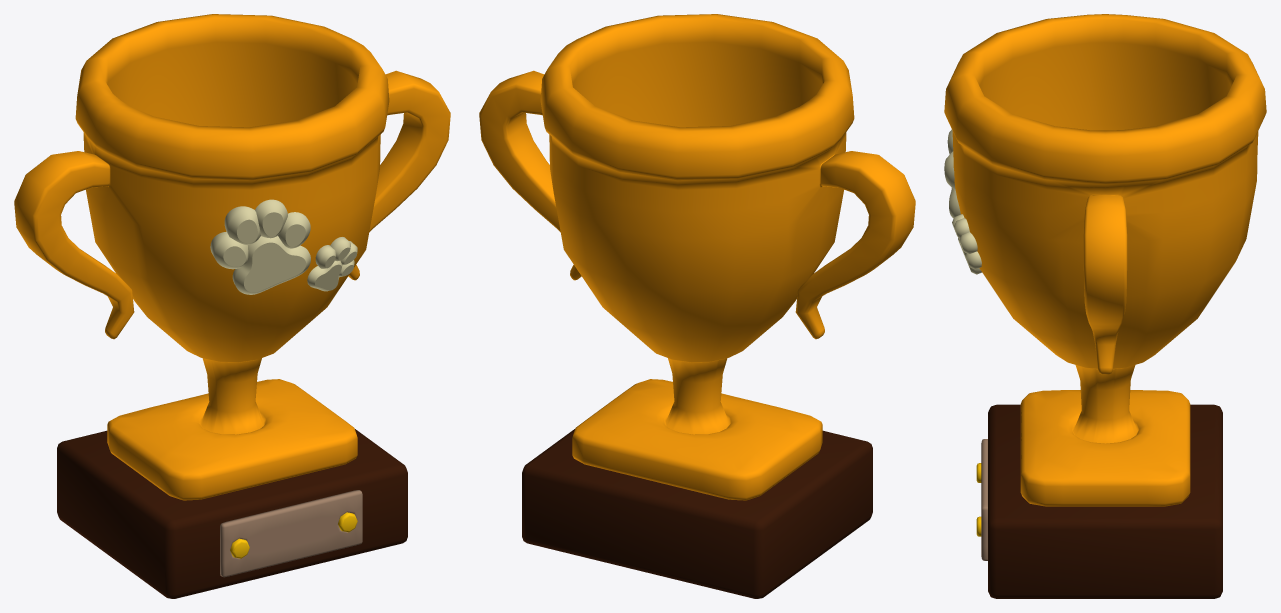
Rendered from REWARD ICON.fbx.
The picture shows the model from 3 angles, left to right: view 1: azimuth 30°, elevation 25°; view 2: azimuth 150°, elevation 25°; view 3: azimuth 270°, elevation 25°; orthographic projection.
Parts seen in each view (by area): view 1: TROPHY, BOTTOM, NAME TAGE, Curve, Curve.001, BUTTON; view 2: TROPHY, BOTTOM; view 3: TROPHY, BOTTOM, Curve.001, NAME TAGE, Curve.
Part boxes in pixels (x1,y1,x2,y2): TROPHY: [14, 14, 450, 500]; BOTTOM: [57, 429, 407, 598]; NAME TAGE: [220, 490, 362, 577]; Curve: [210, 199, 310, 294]; Curve.001: [307, 237, 357, 291]; BUTTON: [230, 512, 357, 558]; TROPHY: [479, 14, 915, 500]; BOTTOM: [522, 429, 872, 598]; TROPHY: [944, 14, 1266, 506]; BOTTOM: [988, 404, 1222, 598]; Curve.001: [952, 214, 981, 274]; NAME TAGE: [981, 439, 987, 560]; Curve: [944, 129, 960, 218].
Size of the model in its own units: 308 by 321 by 201.
